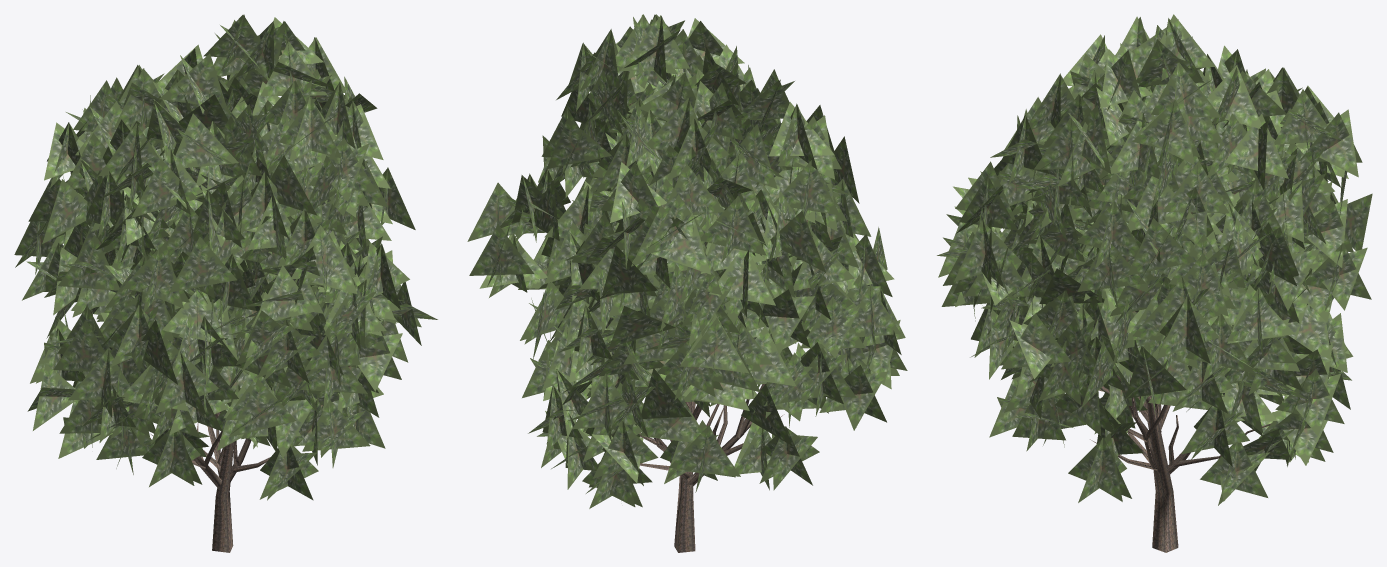
Rendered from Carya_Ovalis_Spring_Young.glb.
The picture shows the model from 3 angles, left to right: view 1: azimuth 30°, elevation 25°; view 2: azimuth 150°, elevation 25°; view 3: azimuth 270°, elevation 25°; orthographic projection. The views are drawn at different scales.
Visible parts, largest first — view 1: Carya_Ovalis_Spring_Young__LOD3; view 2: Carya_Ovalis_Spring_Young__LOD3; view 3: Carya_Ovalis_Spring_Young__LOD3.
Boxes of the visible parts, <box> form: Carya_Ovalis_Spring_Young__LOD3: <box>14,14,437,552</box>; Carya_Ovalis_Spring_Young__LOD3: <box>467,14,907,552</box>; Carya_Ovalis_Spring_Young__LOD3: <box>937,14,1372,552</box>.
Bounding box in the file's own units: 7.55 × 9.74 × 7.12.
Materials: 2 (2 with a texture image).
